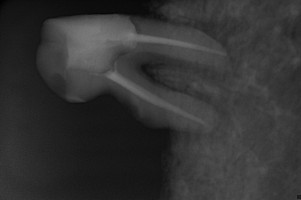Endo-Periodontal Lesion: (140, 61, 168, 85)
